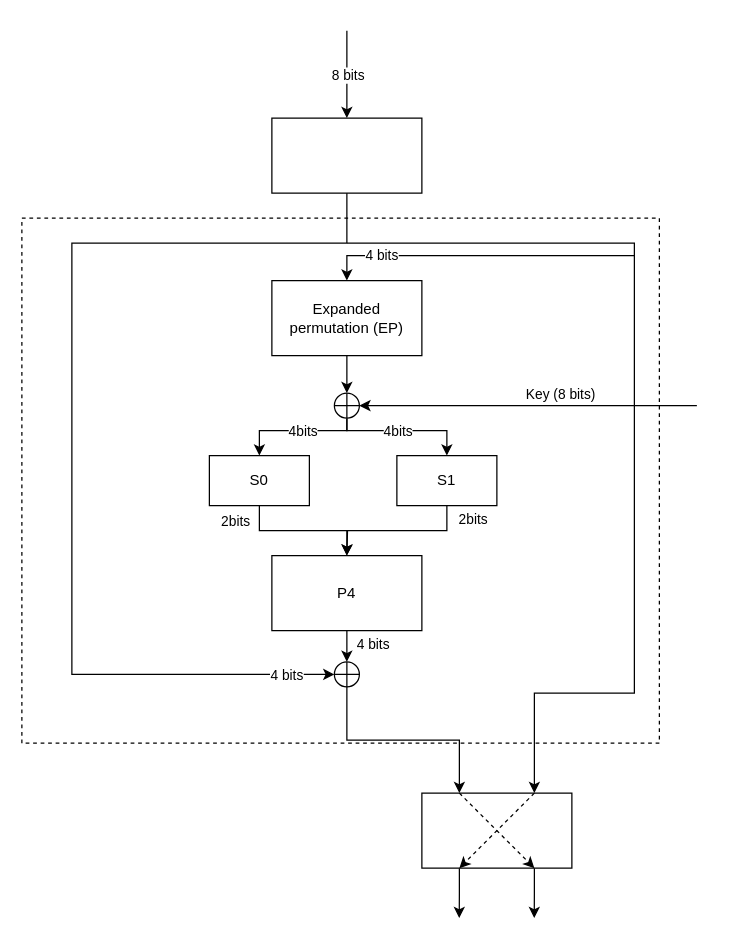
Some shapes in this 729 by 950 pixel diagram are drawn without their labels. The shapes that lost their labels are listed below. From the top down, each one's centre as x and y in pixels, then its label:
At [346,155]: "Initial permutation (IP)".
At [496,830]: "SW".
